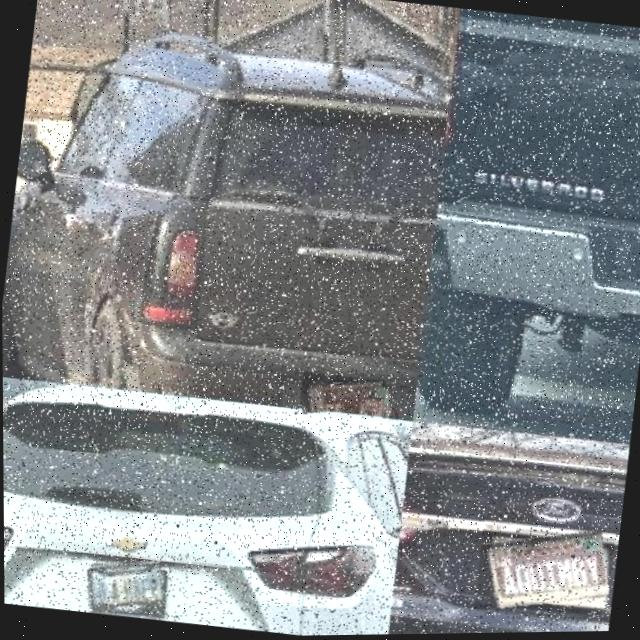LicensePlate: (480, 533, 607, 612), (80, 561, 162, 613), (301, 382, 383, 415)
